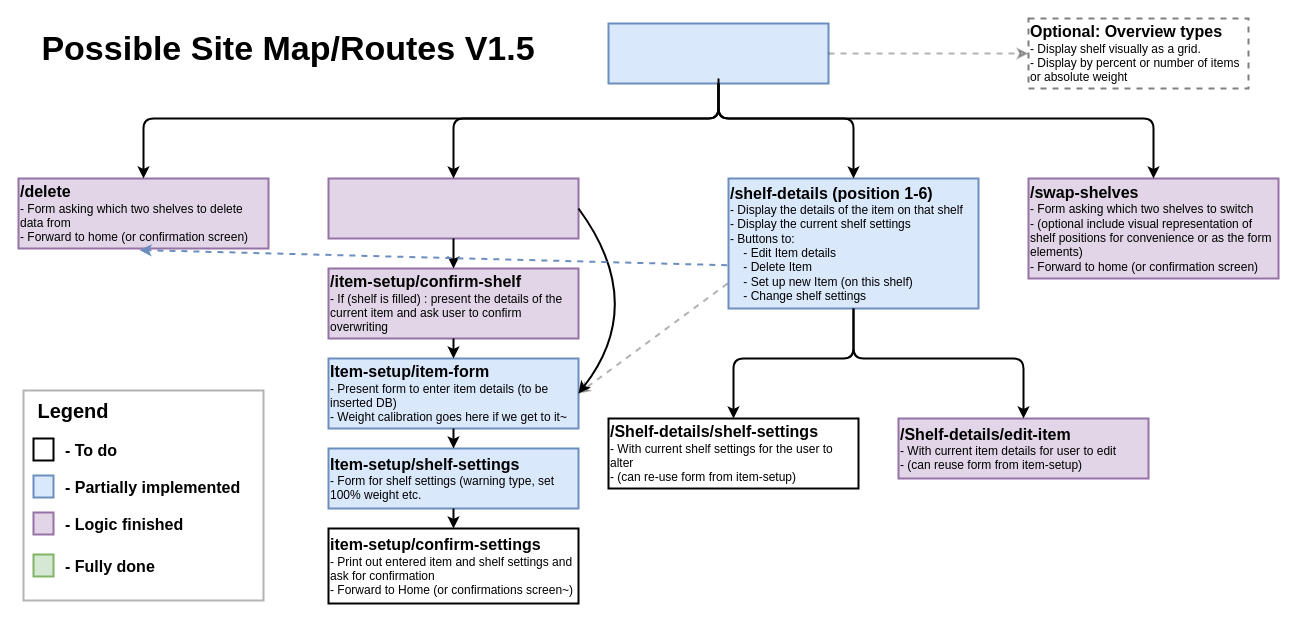
This 1296x621 diagram has some shape labels left out. The shapes that lost their labels are listed below. From the top down, each one's box as (x1, y1, x2, y2) in pixels, then its label:
(607, 22, 829, 84): Home '/home' - Shelf overview screen - Buttons or navigation to other screens
(327, 177, 579, 239): /item-setup - Ask user which shelf they would like to set an item up on (form)
